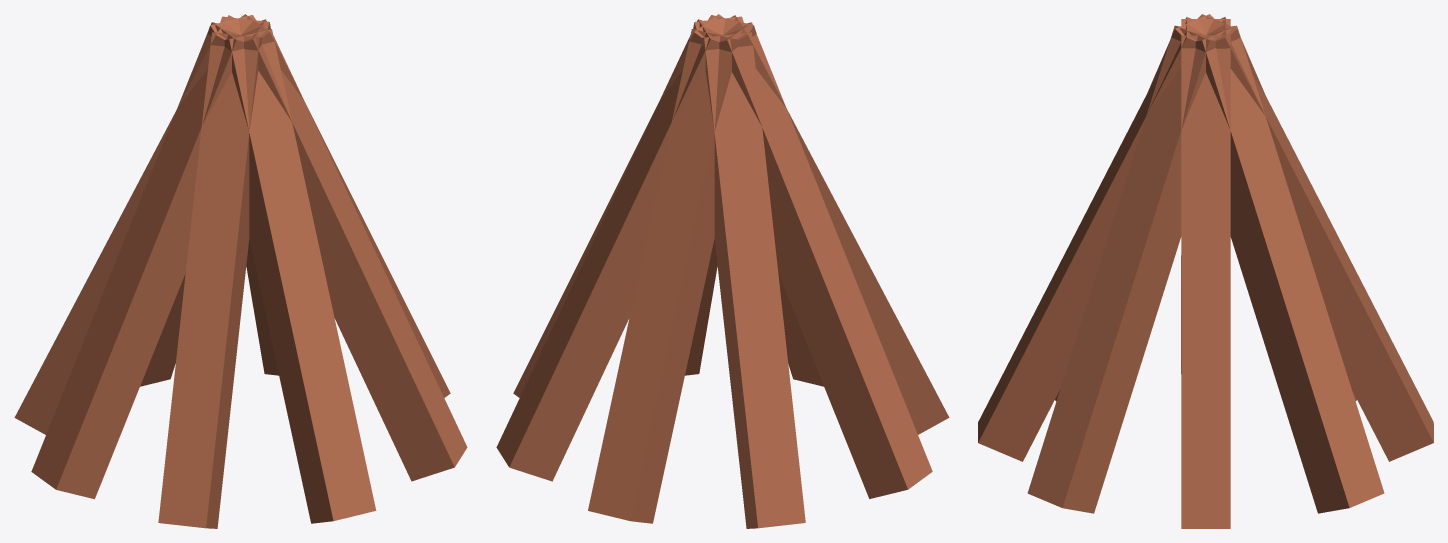
File: object_fireplace.glb
The picture shows the model from 3 angles, left to right: view 1: azimuth 30°, elevation 25°; view 2: azimuth 150°, elevation 25°; view 3: azimuth 270°, elevation 25°; orthographic projection.
Parts seen in each view (by area): view 1: fireplace; view 2: fireplace; view 3: fireplace.
Part boxes in pixels (box(x1,y1,x2,y2)): fireplace: box(14, 14, 467, 528); fireplace: box(496, 14, 949, 528); fireplace: box(978, 14, 1433, 528).
Bounding box in the file's own units: 0.9233 × 0.9486 × 0.9233.
